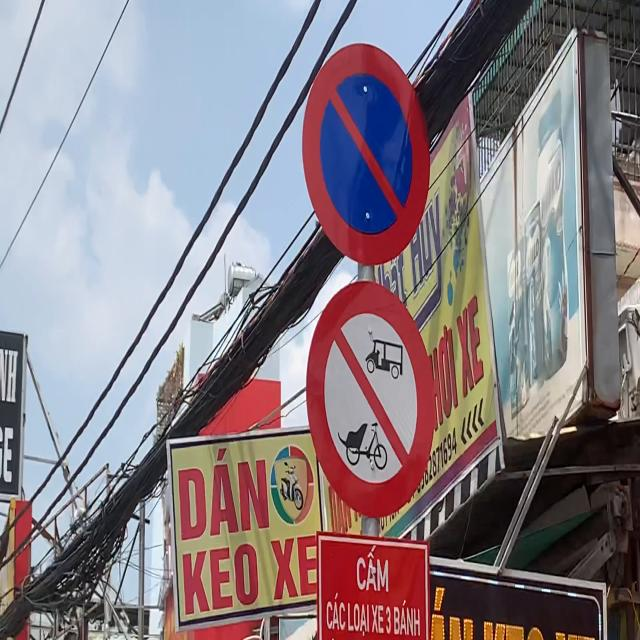Cam con lai: (306, 279, 436, 519)
Cam do: (301, 42, 431, 267)
